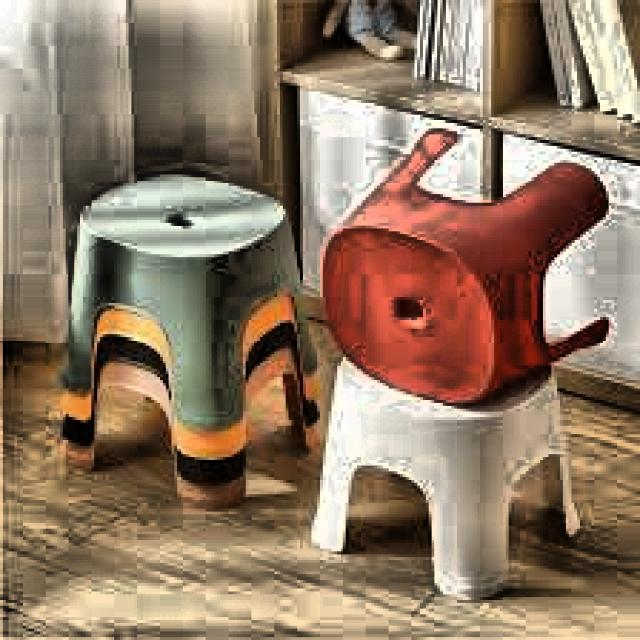cadeira: (52, 169, 325, 508), (318, 120, 616, 402), (308, 328, 588, 602)
